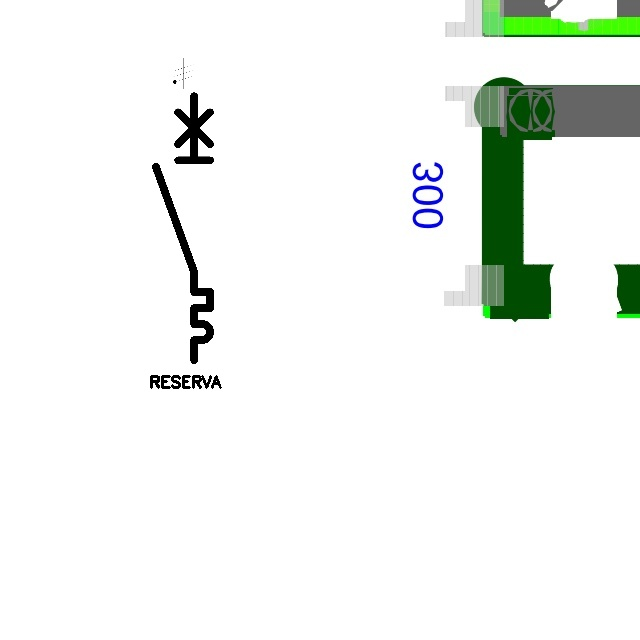interruptor_termomagnetico: (149, 89, 217, 366)
